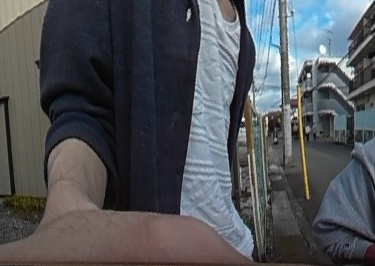person: (303, 121, 311, 140), (311, 121, 318, 140)
